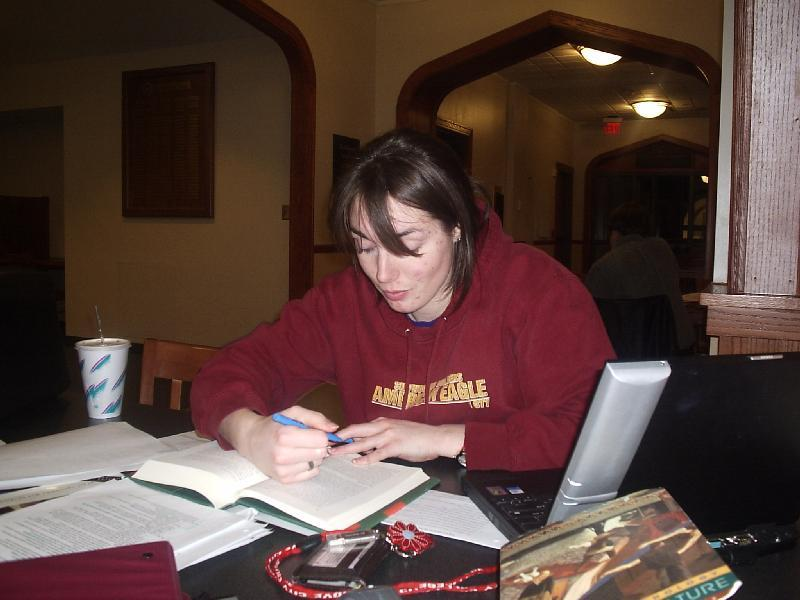person: (191, 131, 624, 491)
